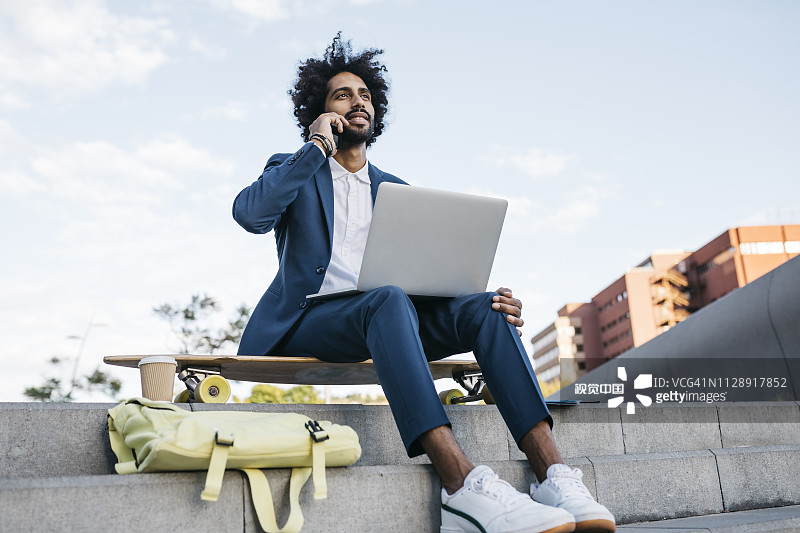calling: (294, 97, 354, 178)
